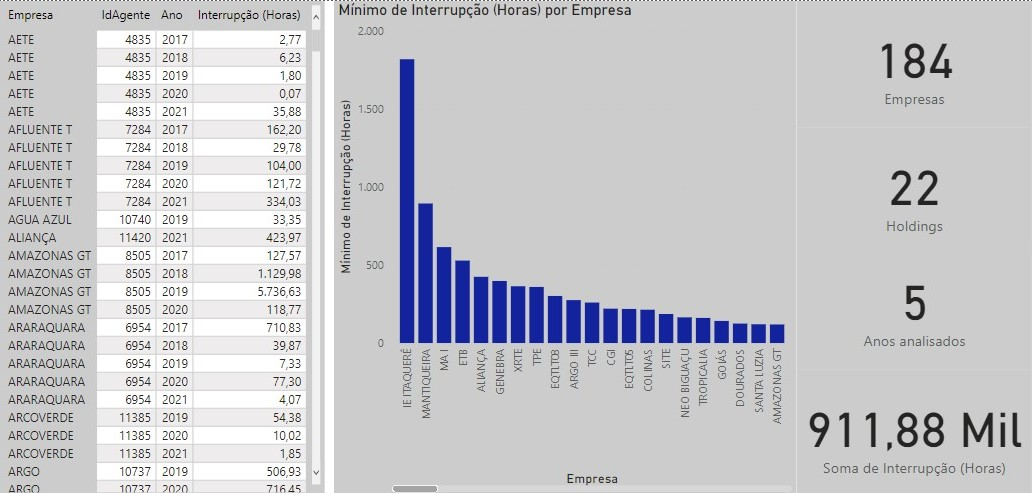

What the dashboard file says about the page in this screenshot:
{"tool":"powerbi","page":{"name":"Página 1","canvas":[1280,720],"ordinal":0},"visuals":[{"type":"tableEx","fields":{"Values":["INDISPONILIDADE.Empresa","INDISPONILIDADE.IdAgente","INDISPONILIDADE.Ano","INDISPONILIDADE.Interrupção (Horas)"]},"box":[8.9,0,363.3,551.1],"z":0},{"type":"clusteredColumnChart","fields":{"Category":["INDISPONILIDADE.Empresa"],"Y":["Min(INDISPONILIDADE.Interrupção (Horas))"]},"box":[382.2,0,514.4,551.1],"z":1},{"type":"card","fields":{"Values":["Count(INDISPONILIDADE.Empresa)"]},"box":[896.7,0,261.1,141.1],"z":2},{"type":"card","fields":{"Values":["Count(INDISPONILIDADE.Holding)"]},"box":[896.7,141.1,261.1,141.1],"z":3},{"type":"card","fields":{"Values":["Count(INDISPONILIDADE.Ano)"]},"box":[896.7,268.9,261.1,141.1],"z":4},{"type":"card","fields":{"Values":["Sum(INDISPONILIDADE.Interrupção (Horas))"]},"box":[896.8,410,261.1,141.1],"z":5}]}

Visuals, with their boxes on the page's 1280x720 design canvas (x1, y1, x2, y2). These are canvas units, not pixel positions in the 1032x493 screenshot, which may show the page scaled, cropped or inside an application window:
tableEx - INDISPONILIDADE.Empresa x INDISPONILIDADE.IdAgente: {"left": 9, "top": 0, "right": 372, "bottom": 551}
clusteredColumnChart - INDISPONILIDADE.Empresa x Min(INDISPONILIDADE.Interrupção (Horas)): {"left": 382, "top": 0, "right": 897, "bottom": 551}
card - Count(INDISPONILIDADE.Empresa): {"left": 897, "top": 0, "right": 1158, "bottom": 141}
card - Count(INDISPONILIDADE.Holding): {"left": 897, "top": 141, "right": 1158, "bottom": 282}
card - Count(INDISPONILIDADE.Ano): {"left": 897, "top": 269, "right": 1158, "bottom": 410}
card - Sum(INDISPONILIDADE.Interrupção (Horas)): {"left": 897, "top": 410, "right": 1158, "bottom": 551}
